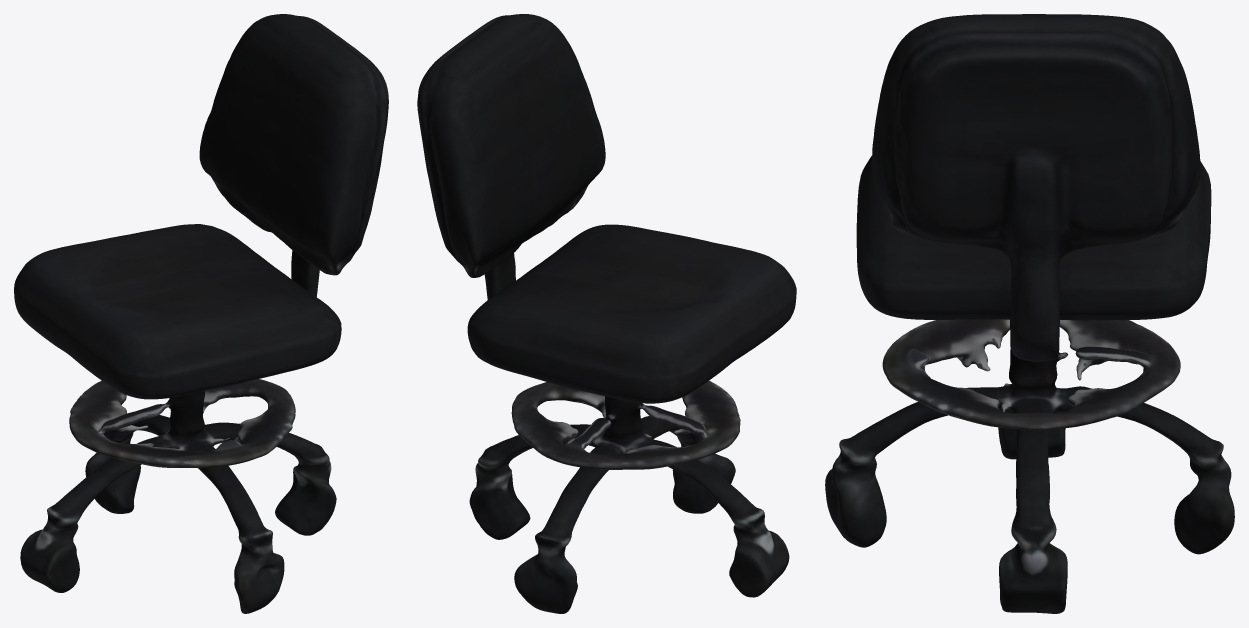
Rendered from 8ac8fc430b7f_simple_office_chair.fbx.
3 renders of one model, left to right at view 1: azimuth 30°, elevation 25°; view 2: azimuth 150°, elevation 25°; view 3: azimuth 270°, elevation 25°, orthographic. The views are drawn at different scales.
Parts seen in each view (by area): view 1: high_poly; view 2: high_poly; view 3: high_poly.
Boxes of the visible parts, x1,y1,x2,y2 form: high_poly: (14, 14, 388, 613); high_poly: (417, 14, 796, 613); high_poly: (825, 14, 1234, 613).
Bounding box in the file's own units: 68.4 × 100 × 60.5.
